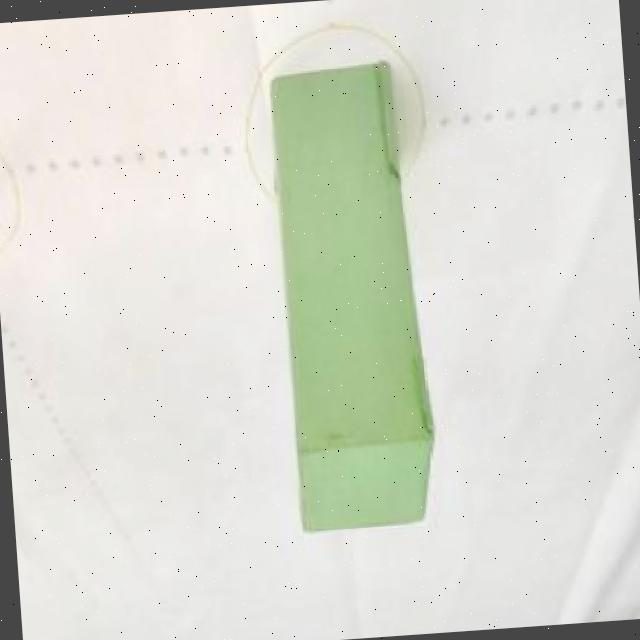greenbox: (262, 61, 444, 536)
